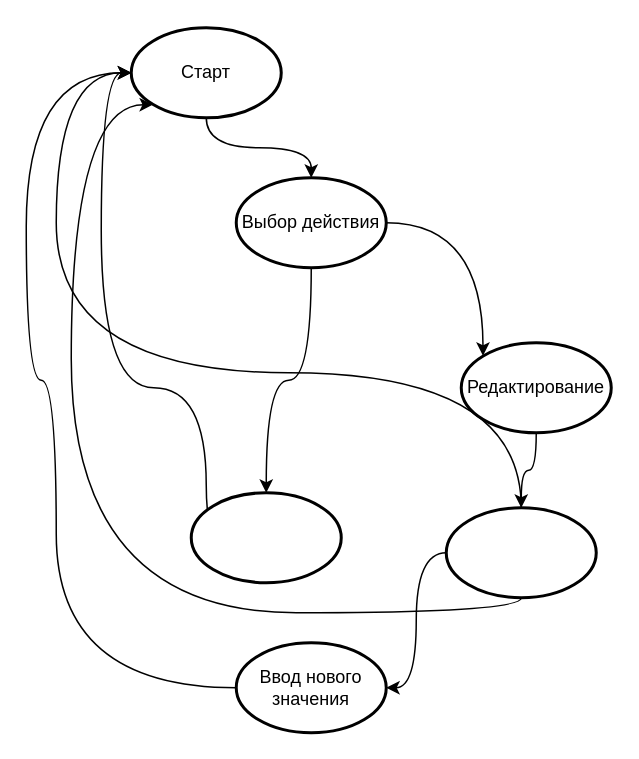
Some shapes in this 639 by 759 pixel diagram are drawn without their labels. Here are the shapes that lost their labels. From the top down, the centre of each, then its label:
At point 265,537: "Просмотр накоплени".
At point 520,552: "Выбор существующего накопления".
